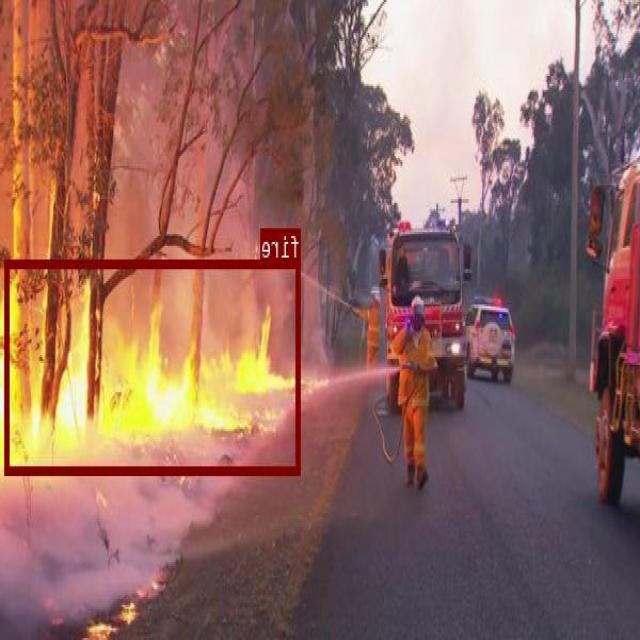fire: (5, 259, 302, 473)
